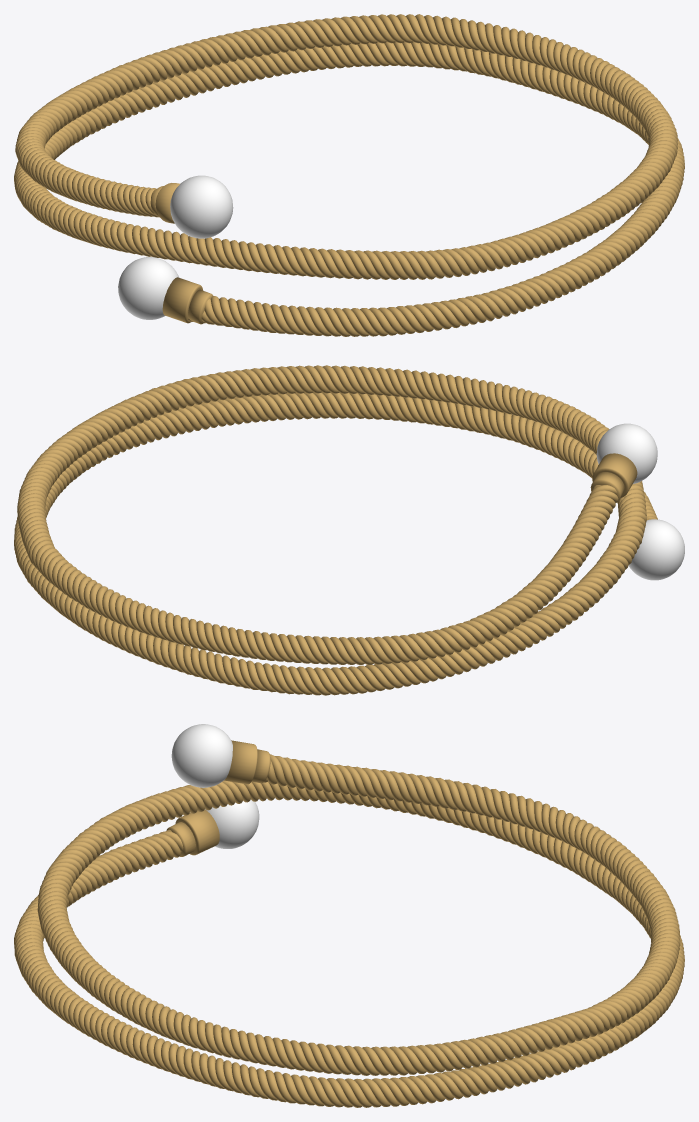
Rendered from pulseira_bangle_-_bangle_bracelet_-_bangle_ankle.glb.
3 views of the same model, one above another, from view 1: azimuth 30°, elevation 25°; view 2: azimuth 150°, elevation 25°; view 3: azimuth 270°, elevation 25° (orthographic). The views are drawn at different scales.
Visible parts, largest first — view 1: object 4, Esfera UV.003_7, Esfera UV.004_10, Cilindro.002_8, Cilindro.001_5, Cilindro.003_9; view 2: object 4, Esfera UV.004_10, Esfera UV.003_7, Cilindro.001_5; view 3: object 4, Esfera UV.003_7, Esfera UV.004_10, Cilindro.002_8, Cilindro.001_5.
Part boxes in pixels (box(x1,y1,x2,y2)): object 4: box(14, 14, 684, 336); Esfera UV.003_7: box(170, 175, 233, 238); Esfera UV.004_10: box(118, 257, 179, 319); Cilindro.002_8: box(162, 277, 202, 323); Cilindro.001_5: box(155, 183, 179, 223); Cilindro.003_9: box(188, 289, 213, 324); object 4: box(14, 365, 657, 695); Esfera UV.004_10: box(628, 519, 684, 580); Esfera UV.003_7: box(596, 423, 657, 483); Cilindro.001_5: box(592, 453, 637, 498); object 4: box(14, 754, 684, 1107); Esfera UV.003_7: box(171, 724, 232, 787); Esfera UV.004_10: box(205, 799, 259, 848); Cilindro.002_8: box(175, 809, 219, 855); Cilindro.001_5: box(224, 740, 257, 784).
Size of the model in its own units: 29.44 by 6.79 by 28.85.
